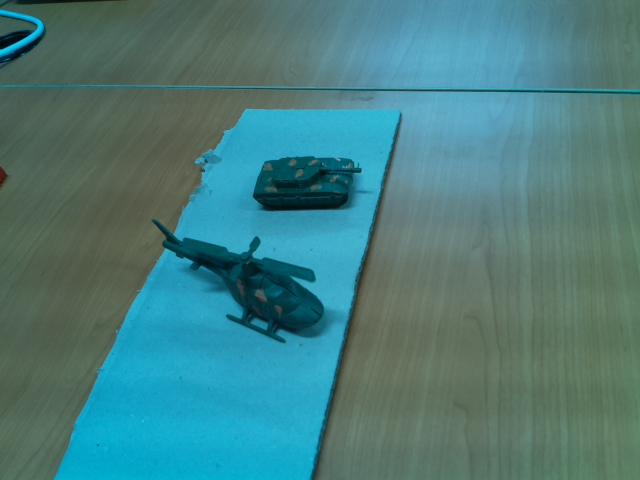heli-1: (151, 220, 327, 344)
tank-1: (252, 155, 364, 210)
